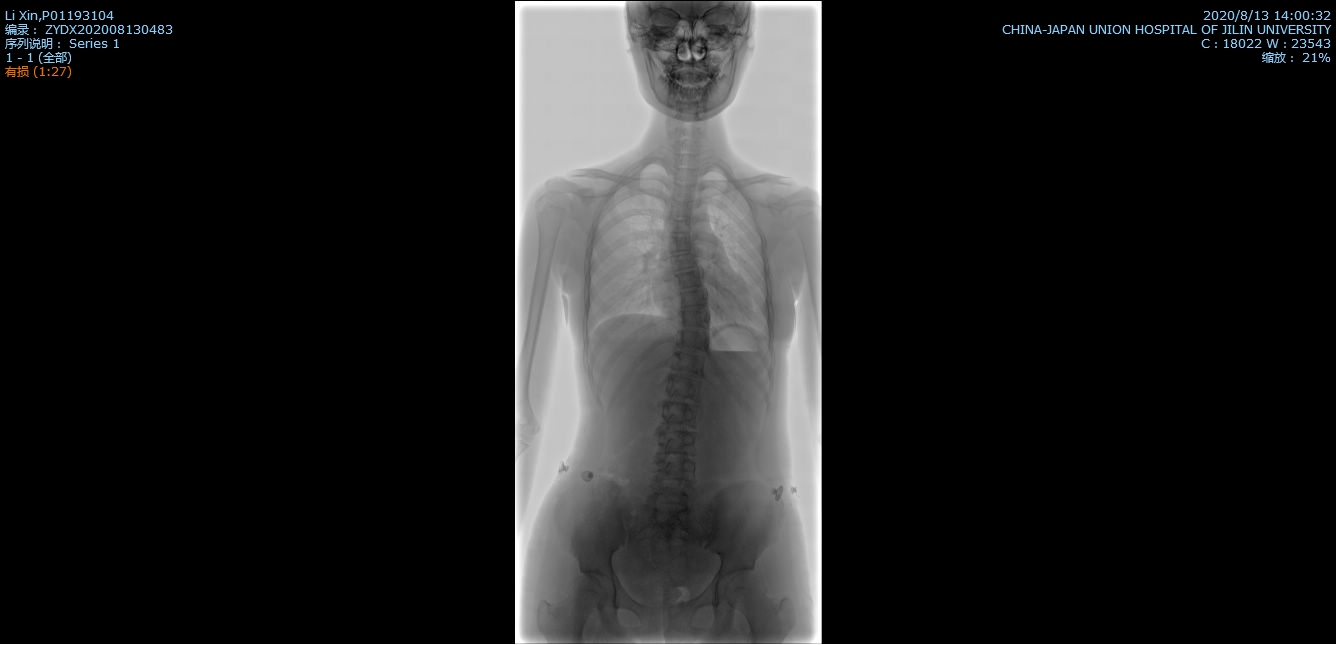Bone: (655, 431, 694, 455), (651, 485, 693, 507), (660, 401, 698, 425), (653, 458, 694, 479), (671, 353, 704, 375), (664, 375, 697, 396), (675, 330, 707, 351), (681, 310, 710, 326), (679, 291, 706, 307), (667, 218, 690, 234), (667, 253, 691, 267), (670, 201, 691, 216), (675, 273, 699, 286), (669, 237, 688, 249)
